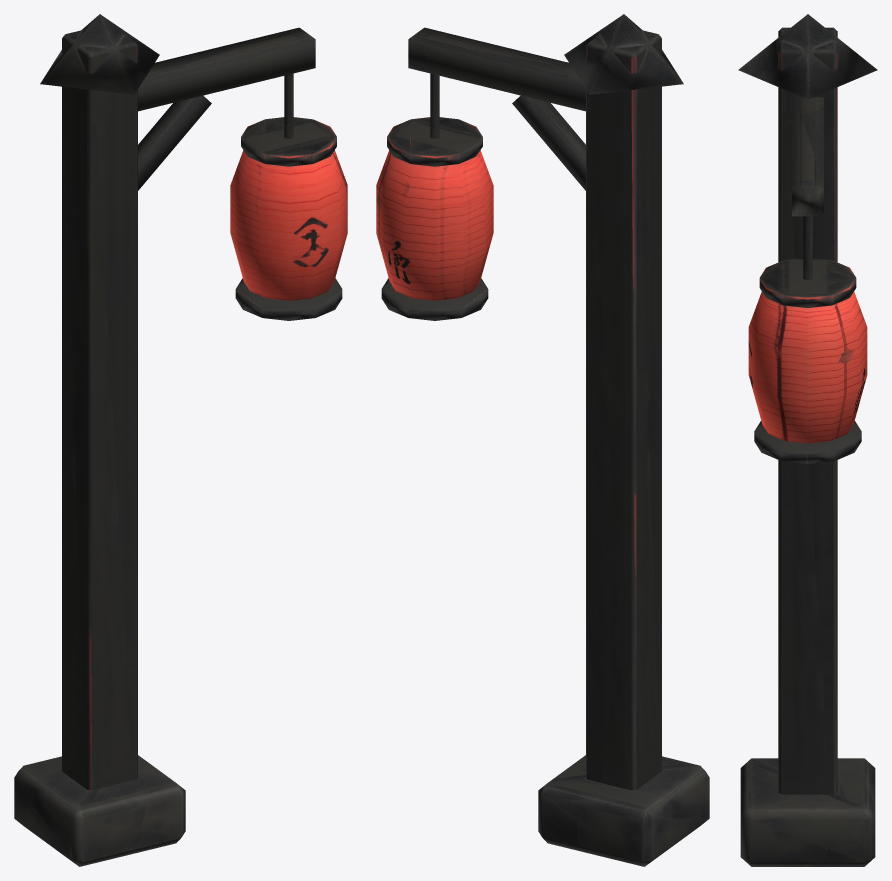
The model's file is lantern_post.glb.
3 renders of one model, left to right at view 1: azimuth 30°, elevation 25°; view 2: azimuth 150°, elevation 25°; view 3: azimuth 270°, elevation 25°, orthographic.
Parts seen in each view (by area): view 1: lantern_post; view 2: lantern_post; view 3: lantern_post.
Boxes of the visible parts, bbox=[...] form: lantern_post: bbox=[14, 14, 347, 866]; lantern_post: bbox=[376, 14, 709, 866]; lantern_post: bbox=[738, 14, 877, 866].
Size of the model in its own units: 1.3 by 3.4 by 0.52.
1 material, 1 textured.
